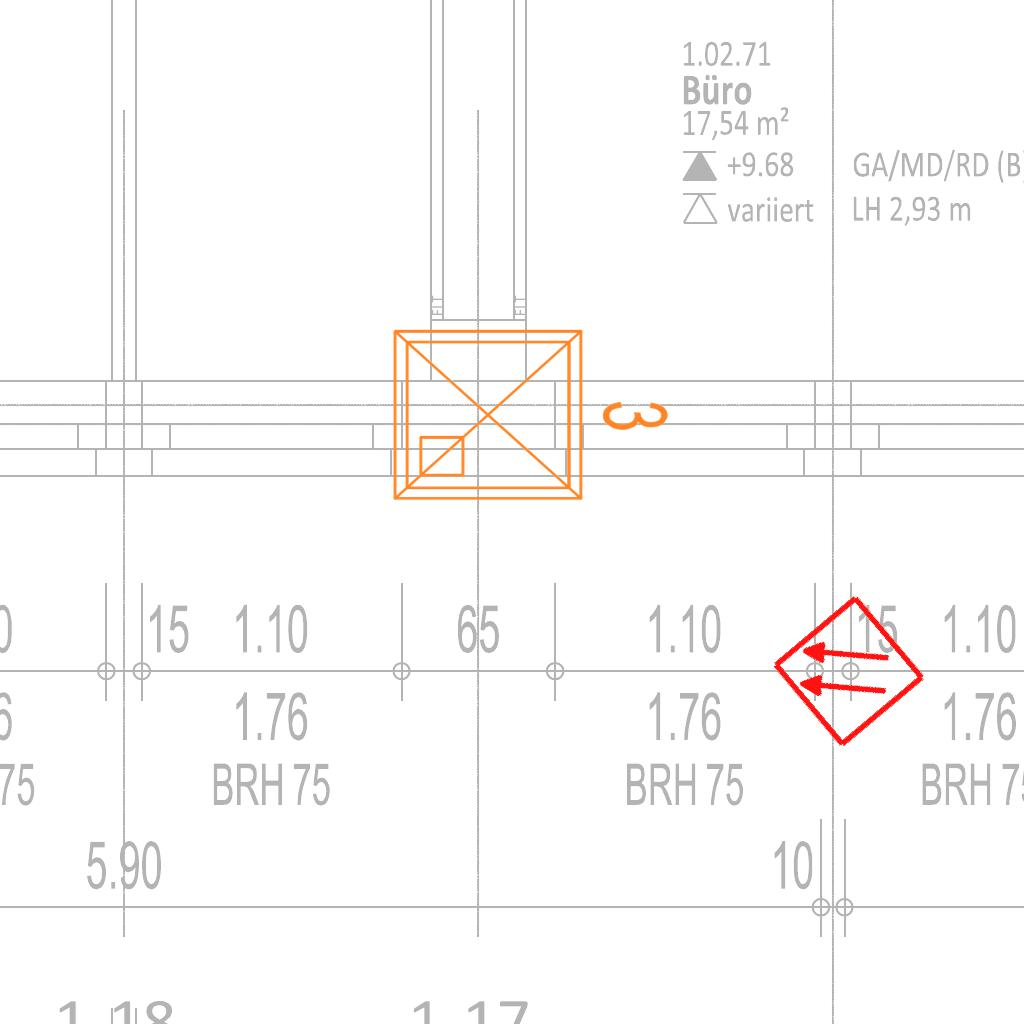Einbaudownlights_LED_Konferenzraeume: (379, 307, 679, 515)
RMO_Rauchmelder_optischer: (768, 591, 929, 752)
